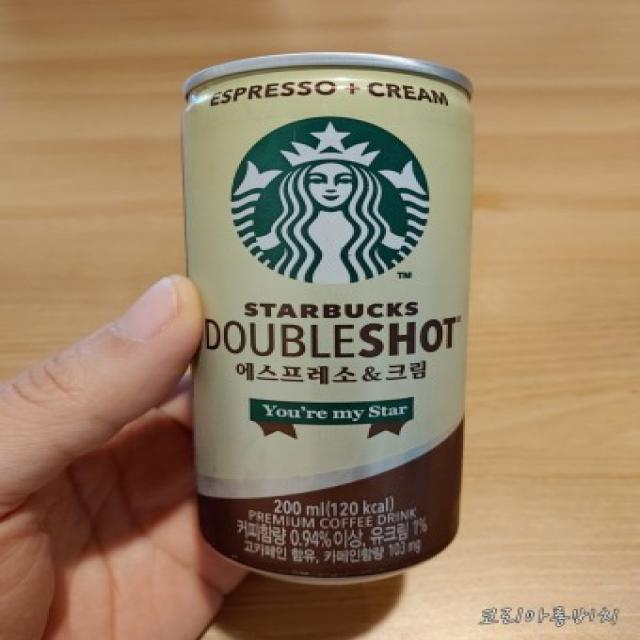can: (175, 52, 474, 590)
